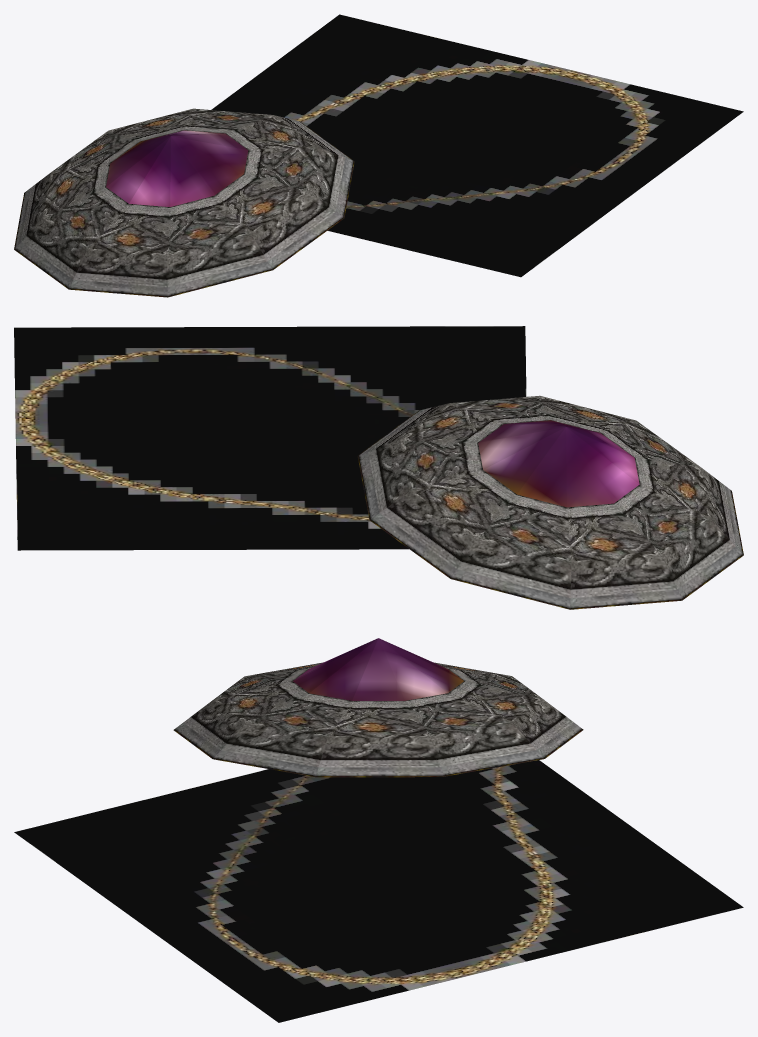
Rendered from ITAM_STRG_01.glb.
3 views of the same model, one above another, from view 1: azimuth 30°, elevation 25°; view 2: azimuth 150°, elevation 25°; view 3: azimuth 270°, elevation 25° (orthographic). The views are drawn at different scales.
Parts seen in each view (by area): view 1: ITAM_STRG_01; view 2: ITAM_STRG_01; view 3: ITAM_STRG_01.
Boxes of the visible parts, x1=… form: ITAM_STRG_01: x1=14, y1=14, x2=743, y2=297; ITAM_STRG_01: x1=14, y1=326, x2=743, y2=609; ITAM_STRG_01: x1=14, y1=638, x2=743, y2=1022.
Size of the model in its own units: 0.1834 by 0.027 by 0.1515.
2 materials, 2 textured.
